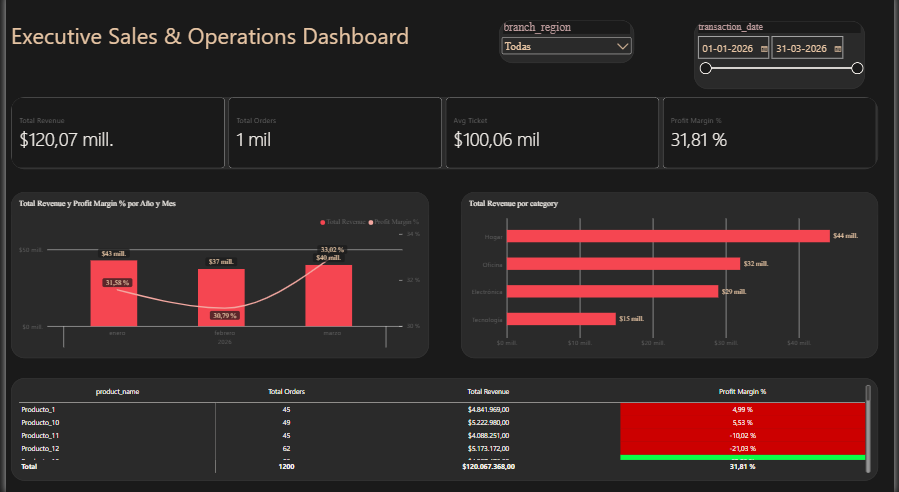

What the dashboard file says about the page in this screenshot:
{"tool":"powerbi","page":{"name":"Página 1","canvas":[1920,1080],"ordinal":0},"visuals":[{"type":"textbox","box":[10.8,56.2,948.2,97.2],"z":0},{"type":"slicer","fields":{"Values":["fact_sales.branch_region"]},"box":[1064.9,56.2,291.6,92.9],"z":1},{"type":"slicer","fields":{"Values":["fact_sales.transaction_date"]},"box":[1486.1,58.3,369.4,146.9],"z":2},{"type":"cardVisual","fields":{"Data":["_Medidas.Total Revenue","_Medidas.Total Orders","_Medidas.Avg Ticket","_Medidas.Profit Margin %"]},"box":[10.8,222.5,1872.7,155.5],"z":3},{"type":"lineStackedColumnComboChart","fields":{"Category":["fact_sales.transaction_date.Variación.Jerarquía de fechas.Año","fact_sales.transaction_date.Variación.Jerarquía de fechas.Mes"],"Y":["_Medidas.Total Revenue"],"Y2":["_Medidas.Profit Margin %"]},"box":[10.8,427.7,902.9,358.6],"z":4},{"type":"barChart","fields":{"Category":["dim_products.category"],"Y":["_Medidas.Total Revenue"]},"box":[982.8,427.7,900.7,358.6],"z":5},{"type":"pivotTable","fields":{"Rows":["v_product_performance.product_name"],"Values":["_Medidas.Total Orders","_Medidas.Total Revenue","_Medidas.Profit Margin %"]},"box":[10.8,829.4,1872.7,222.5],"z":6}]}

Visuals, with their boxes in screenshot pixels (x1, y1, x2, y2), scaled from the page's 1920x1080 canvas onto the 899x492 screenshot:
textbox: box(5, 26, 449, 70)
slicer - fact_sales.branch_region: box(499, 26, 635, 68)
slicer - fact_sales.transaction_date: box(696, 27, 869, 93)
cardVisual - _Medidas.Total Revenue x _Medidas.Total Orders: box(5, 101, 882, 172)
lineStackedColumnComboChart - fact_sales.transaction_date.Variación.Jerarquía de fechas.Año x fact_sales.transaction_date.Variación.Jerarquía de fechas.Mes: box(5, 195, 428, 358)
barChart - dim_products.category x _Medidas.Total Revenue: box(460, 195, 882, 358)
pivotTable - v_product_performance.product_name x _Medidas.Total Orders: box(5, 378, 882, 479)
